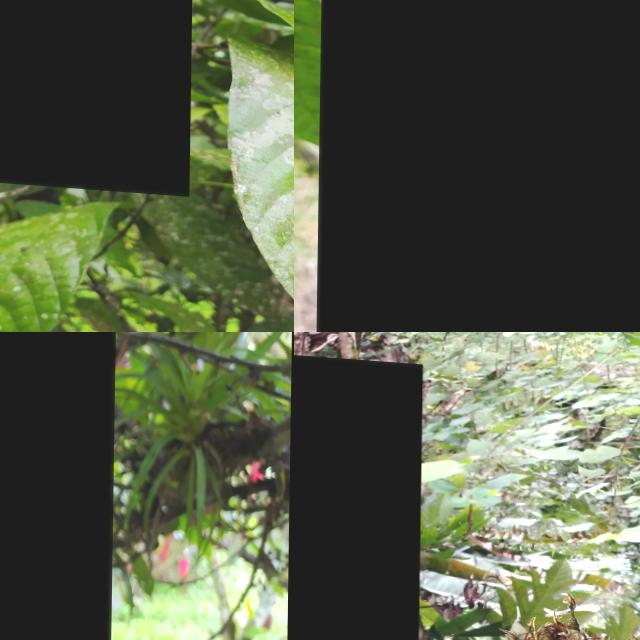Fitoftora: (318, 0, 640, 332)
Monilia: (294, 346, 423, 640), (0, 0, 195, 190), (0, 332, 119, 640)
